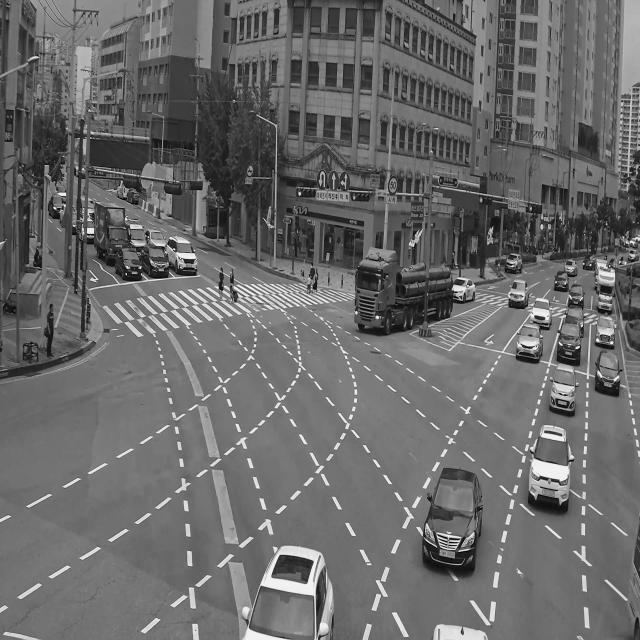Car: (241, 536, 335, 640), (423, 454, 487, 594), (523, 410, 581, 533), (550, 360, 584, 422), (166, 224, 201, 280), (592, 350, 622, 410), (523, 294, 559, 340), (509, 322, 543, 365), (453, 273, 488, 312), (590, 306, 618, 352), (556, 318, 584, 361), (142, 240, 171, 280), (114, 247, 144, 284), (503, 277, 531, 316), (124, 214, 148, 254), (568, 277, 587, 316), (501, 251, 527, 279), (144, 221, 167, 252), (78, 218, 98, 245), (78, 194, 96, 224), (46, 191, 64, 220), (552, 269, 568, 298), (113, 176, 131, 200), (125, 184, 142, 206), (54, 180, 70, 203), (59, 200, 73, 223), (562, 256, 576, 278), (582, 252, 595, 272), (71, 210, 81, 235), (626, 247, 640, 264), (618, 255, 629, 268), (608, 257, 618, 271)
Motorcycle: (603, 250, 608, 260)
Truck: (354, 242, 453, 332), (91, 200, 139, 266), (596, 263, 616, 320)
